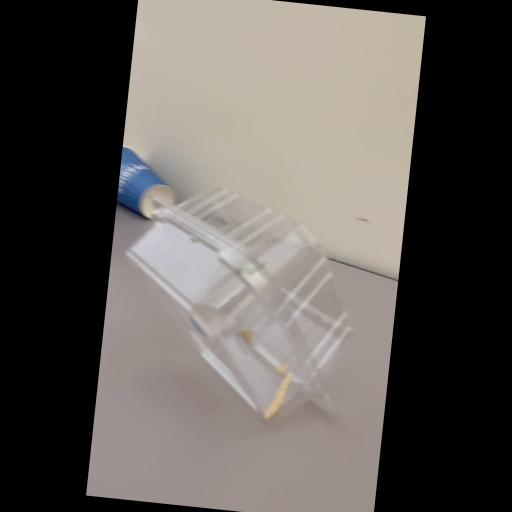lp_paper_cup: (116, 144, 180, 222)
small_plastic_container: (114, 180, 368, 428)
